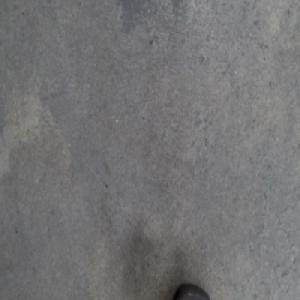AdjustableWrench: (172, 281, 208, 299)
